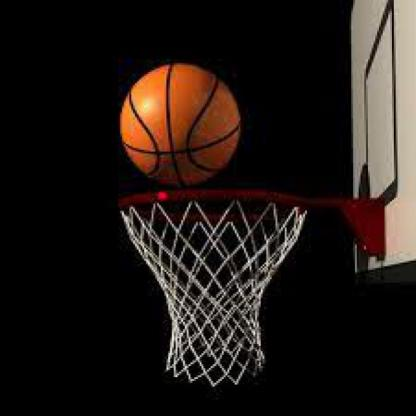basketball: (121, 63, 240, 185)
rim: (117, 186, 316, 240)
